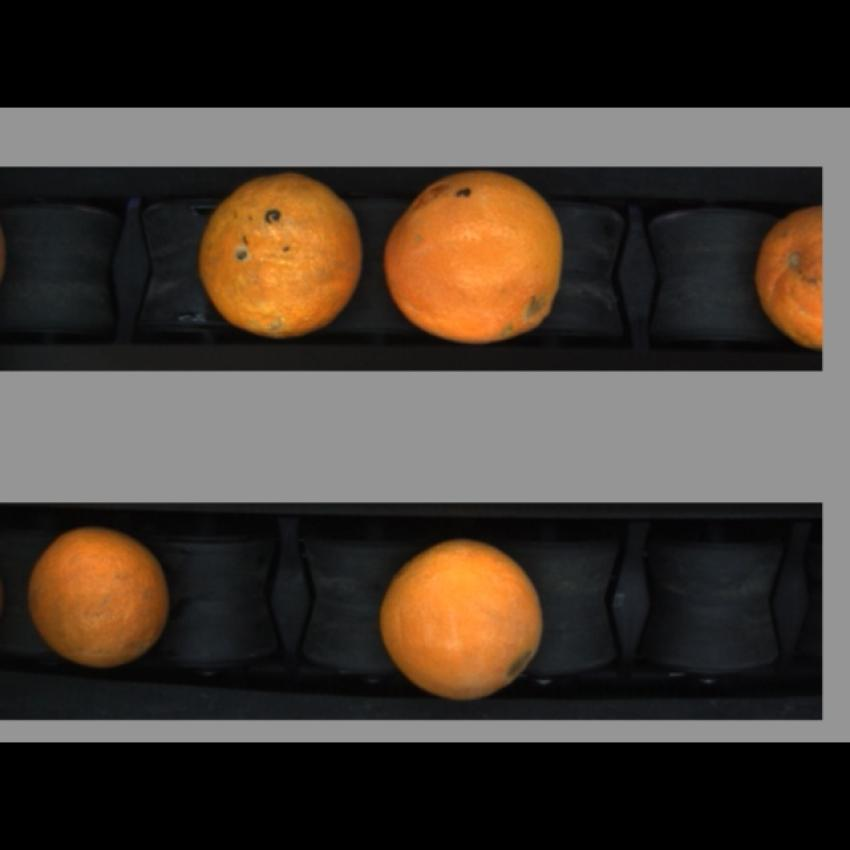Buen estado: (380, 175, 577, 344), (366, 536, 561, 706)
Mal estado: (193, 171, 368, 343), (25, 524, 175, 674), (744, 195, 821, 348)
